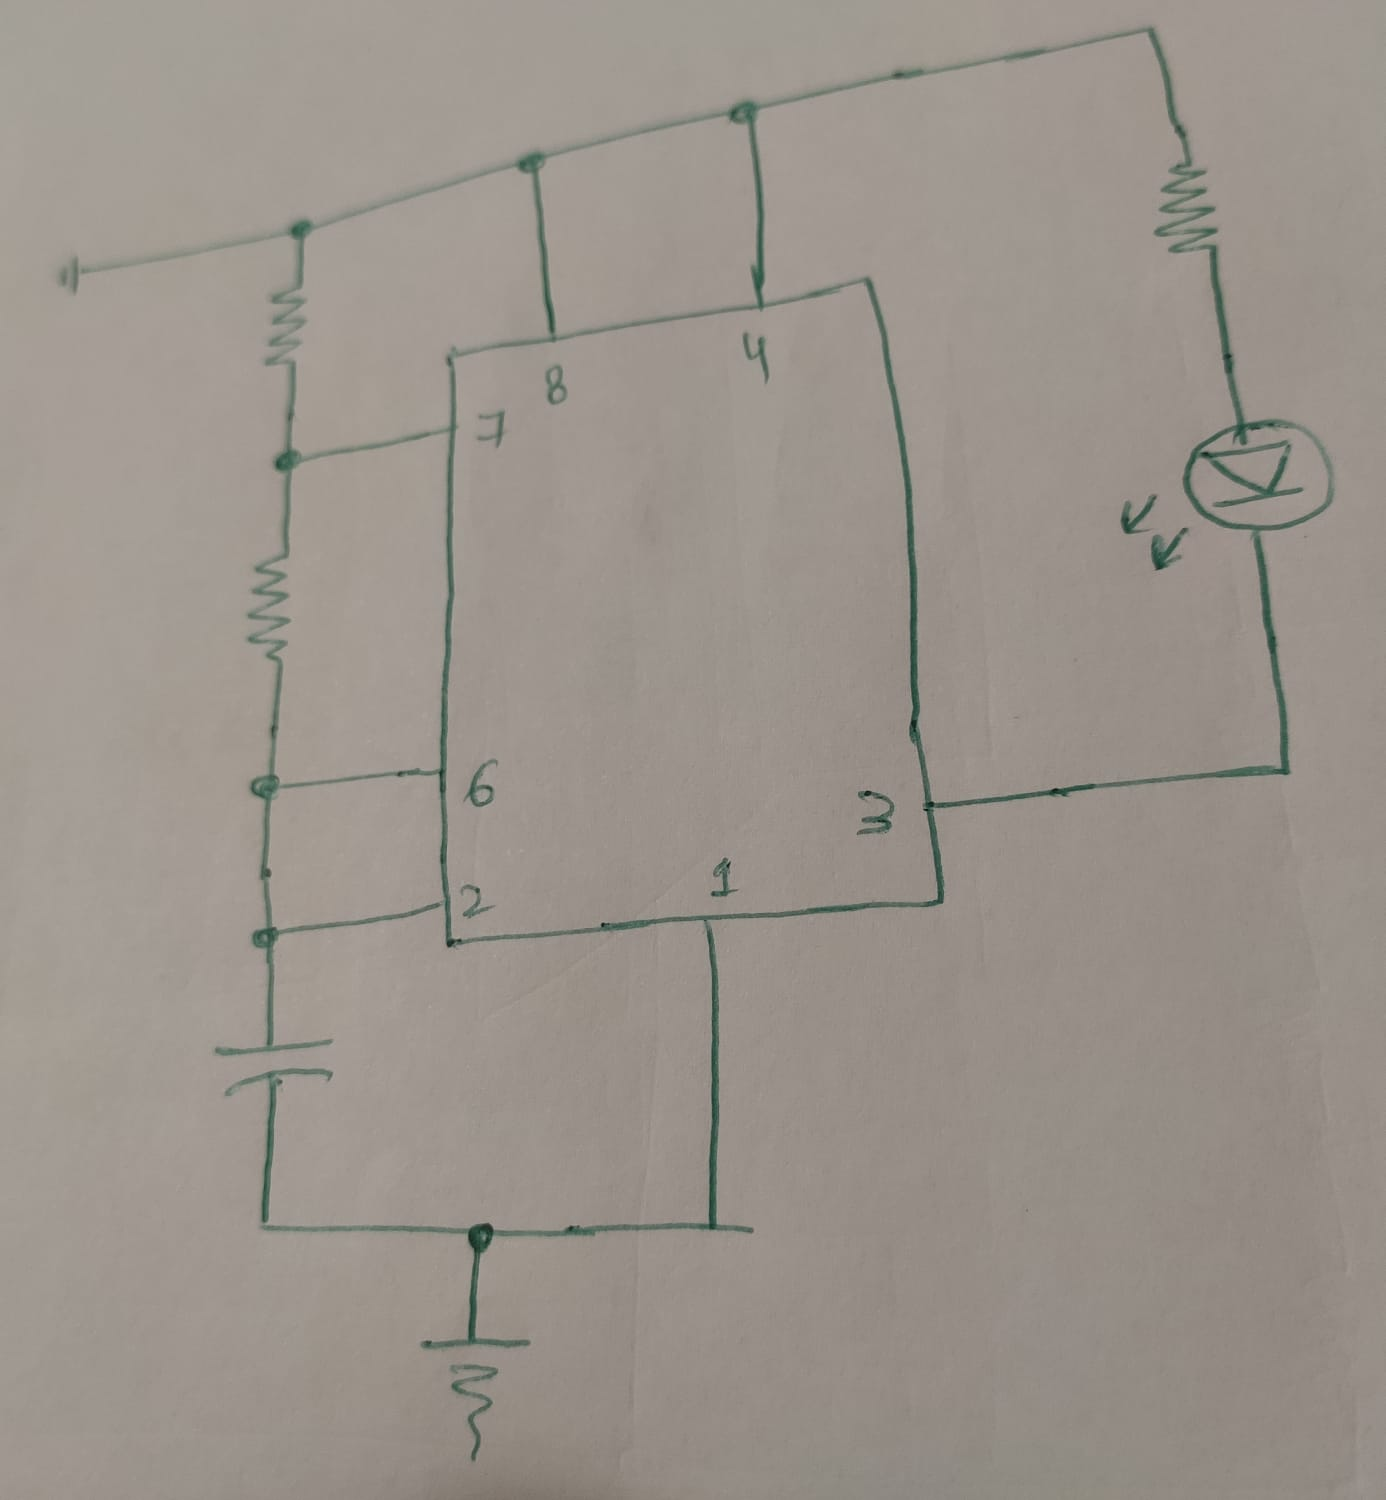capacitor.unpolarized: (212, 1027, 333, 1100)
diode.light_emitting: (1117, 413, 1347, 574)
gnd: (419, 1326, 532, 1463)
integrated_circuit: (425, 270, 955, 956)
junction: (688, 1201, 735, 1248), (455, 1216, 502, 1257), (724, 89, 766, 132), (247, 1205, 290, 1247), (243, 768, 289, 807), (1121, 17, 1165, 56), (1265, 750, 1306, 791), (266, 442, 311, 480), (247, 919, 290, 956), (509, 142, 555, 175), (280, 214, 321, 248)
resistor: (1147, 155, 1227, 272), (243, 544, 300, 672), (263, 274, 312, 380)
text: (850, 780, 897, 838), (462, 757, 506, 813), (741, 327, 776, 382), (473, 402, 509, 449), (705, 856, 743, 898), (538, 357, 570, 405), (455, 879, 489, 916)
voltage.dc: (40, 248, 91, 302)
